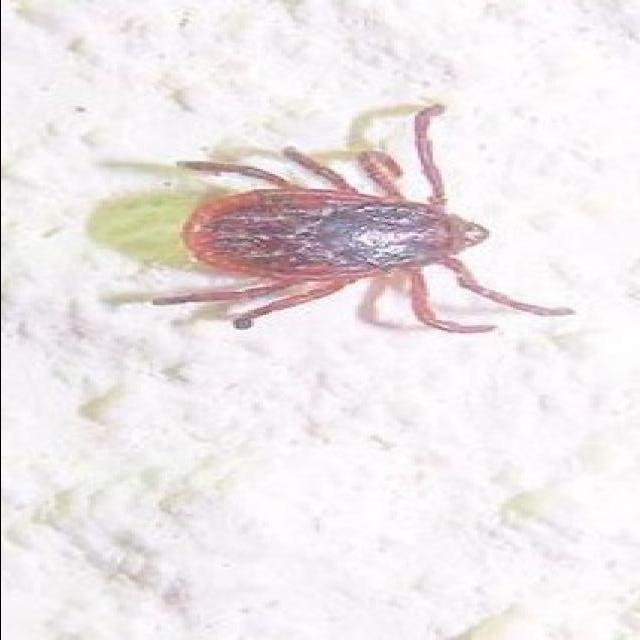Rhipicephalus Sanguineus-F: (152, 101, 575, 333)
